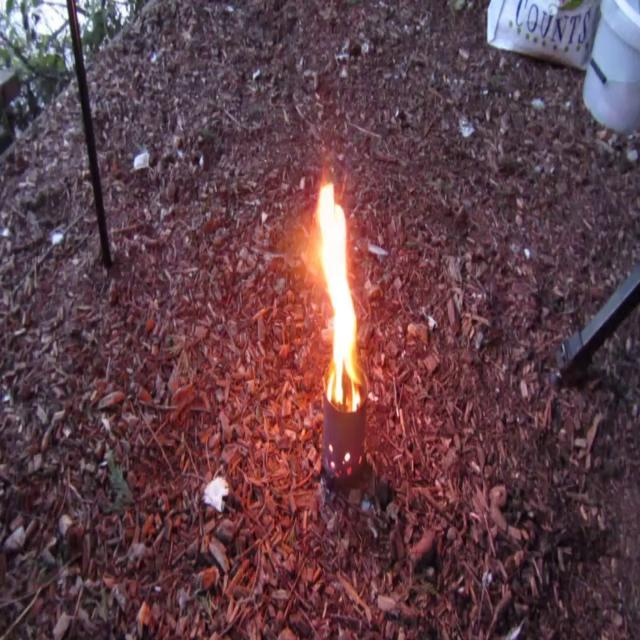Fire: (310, 180, 362, 400)
